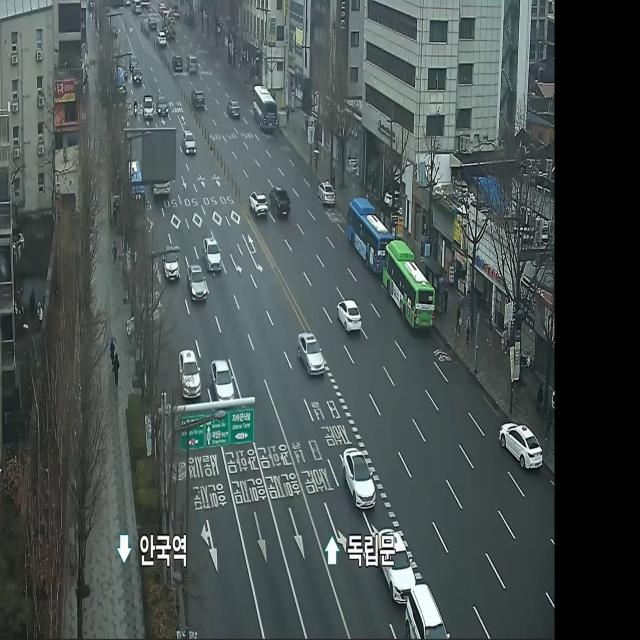bus: (132, 98, 140, 125)
car: (386, 234, 436, 340), (342, 192, 389, 270), (246, 82, 286, 145), (123, 156, 148, 205)
motorcycle: (376, 525, 416, 612), (338, 440, 382, 510), (500, 415, 544, 478), (403, 582, 449, 640), (290, 326, 328, 386), (268, 184, 304, 229), (177, 340, 204, 397), (246, 176, 270, 232), (334, 301, 366, 342), (199, 233, 228, 276), (188, 254, 210, 310), (210, 356, 234, 401), (163, 239, 183, 285), (317, 178, 337, 220), (184, 126, 202, 163), (139, 94, 160, 122), (150, 183, 176, 203), (228, 96, 244, 128), (191, 82, 208, 112), (157, 91, 170, 128), (186, 43, 198, 81), (165, 19, 180, 46), (128, 66, 143, 92), (172, 52, 182, 78), (159, 20, 166, 52)
